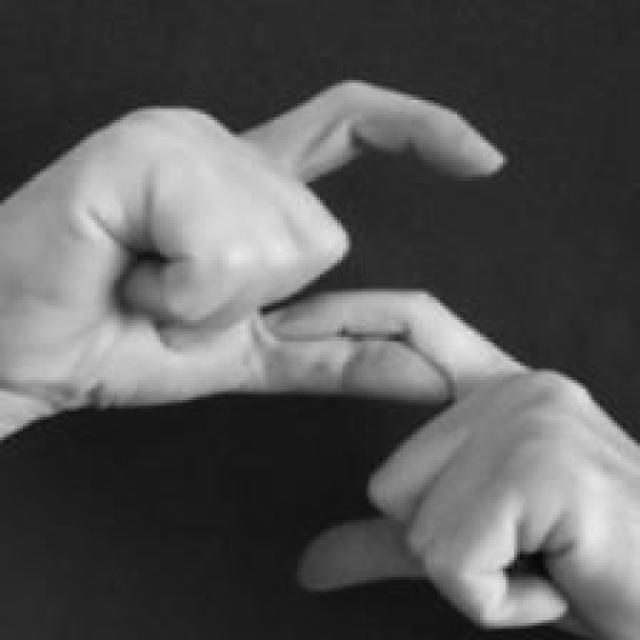S: (3, 71, 640, 640)
